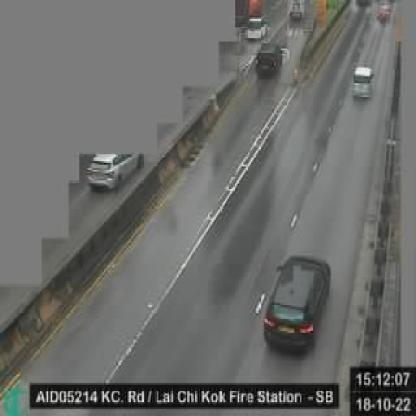Car: (262, 254, 333, 354), (84, 143, 147, 192), (254, 40, 286, 79), (350, 63, 373, 100), (246, 17, 271, 41), (288, 0, 309, 21)
